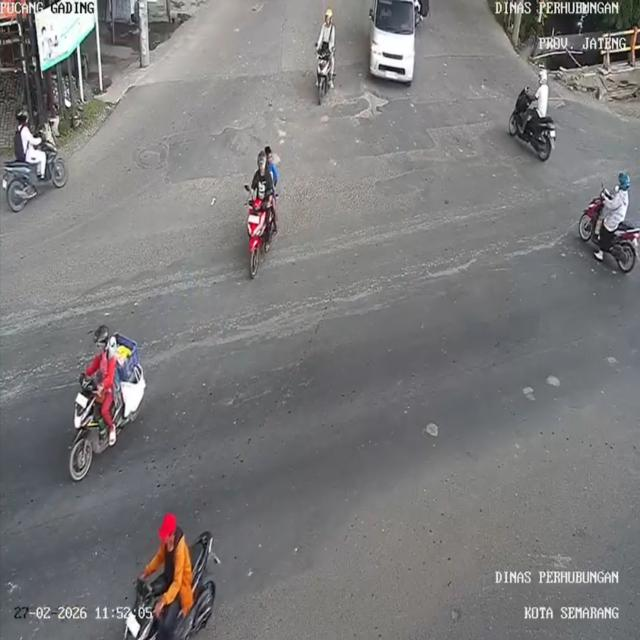motorcycle: (128, 580, 220, 636), (581, 191, 639, 270), (506, 88, 560, 165), (9, 144, 69, 211), (70, 375, 107, 483), (244, 197, 271, 279), (312, 45, 339, 107)
person: (141, 514, 197, 615), (92, 325, 122, 412), (16, 110, 52, 175), (599, 168, 631, 232), (250, 156, 274, 208), (531, 65, 549, 119), (258, 145, 278, 189), (318, 10, 338, 54)
rider_region: (62, 319, 145, 482), (122, 509, 222, 636), (1, 107, 70, 214), (576, 169, 640, 274), (236, 145, 282, 279), (508, 69, 557, 165), (310, 8, 342, 108)
